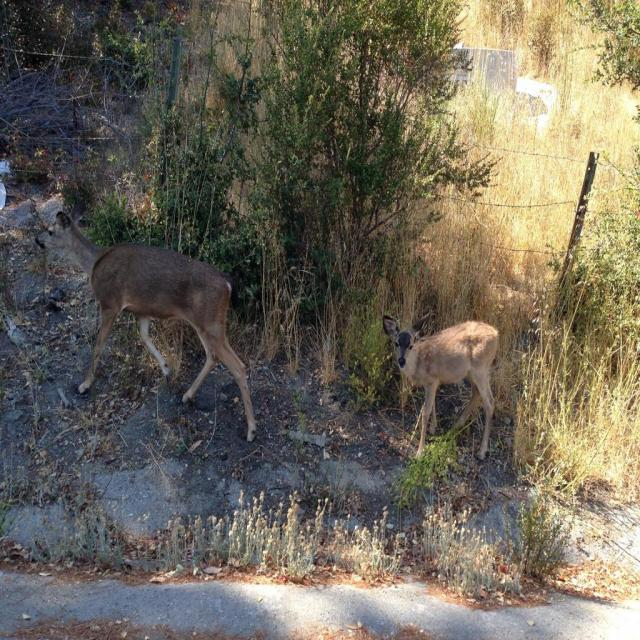Deer: (36, 192, 256, 444), (382, 318, 497, 459)
